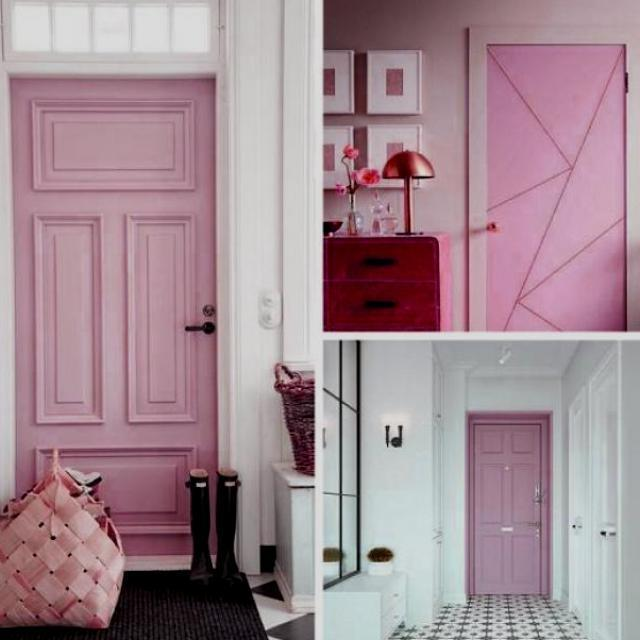door: (9, 74, 218, 557), (483, 41, 629, 330), (468, 416, 545, 596)
